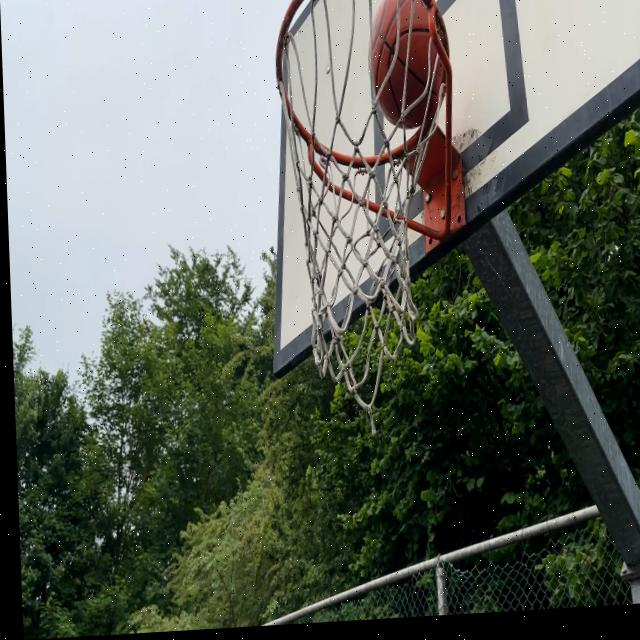rebound_hit: (369, 0, 452, 137)
